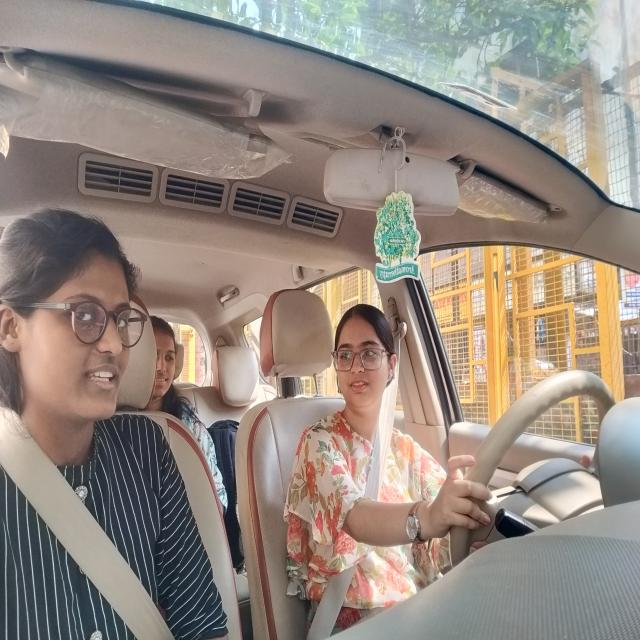LeftRight: (333, 299, 399, 425)
person: (3, 208, 146, 458), (149, 317, 184, 406)
talking: (81, 358, 125, 397), (348, 377, 370, 393)
